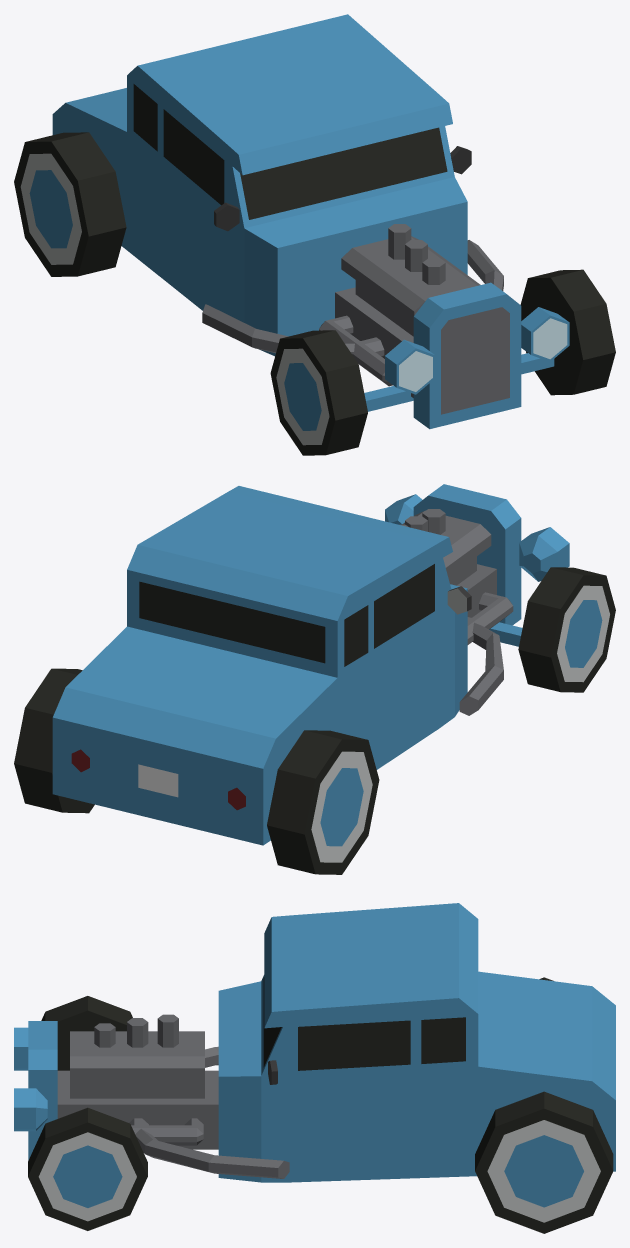
Rendered from Veh_HotRod_Blue.obj.
3 views of the same model, one above another, from view 1: azimuth 30°, elevation 25°; view 2: azimuth 150°, elevation 25°; view 3: azimuth 270°, elevation 25° (orthographic). The views are drawn at different scales.
Bounding box in the file's own units: 1.21 × 0.9391 × 2.35.
